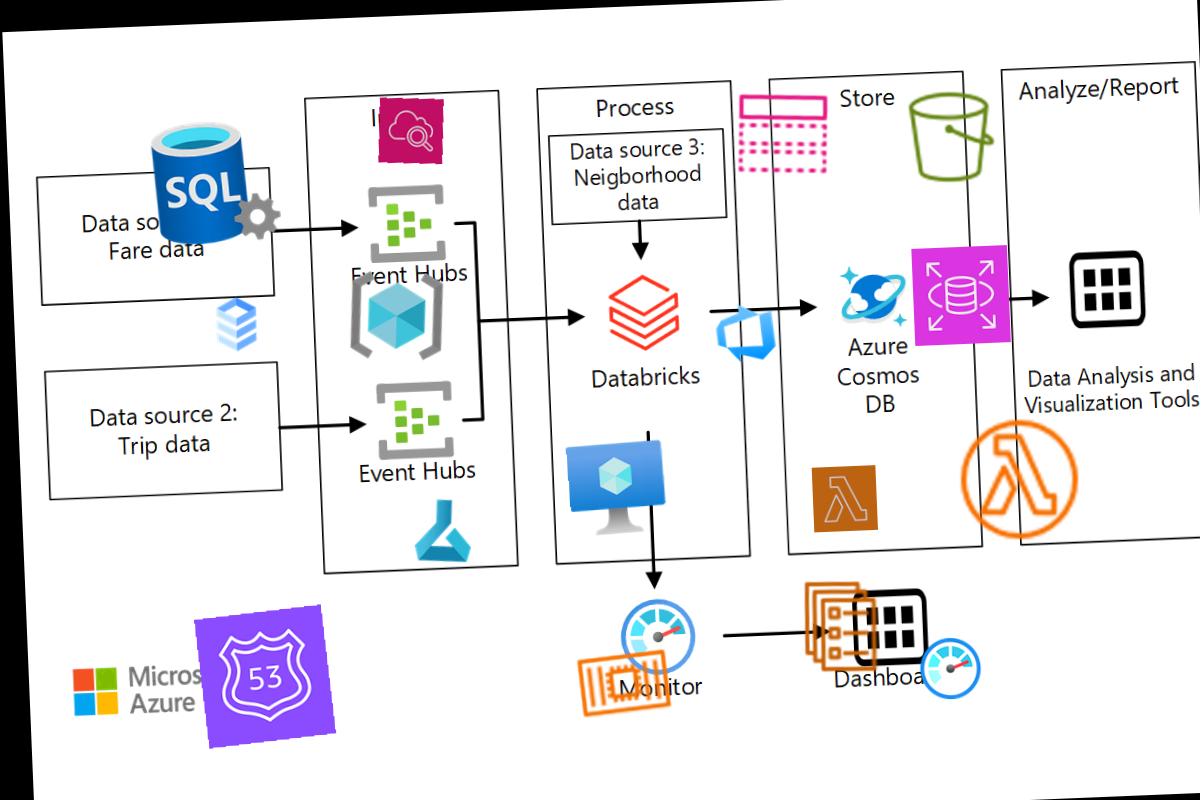aws_amazon_cloudwatch: (375, 95, 446, 166)
aws_amazon_rds: (910, 243, 1011, 347)
aws_amazon_route_53: (193, 603, 336, 749)
aws_elastic_container_service_container_2: (570, 628, 678, 737)
aws_elastic_container_service_service: (789, 573, 892, 679)
aws_lambda: (810, 464, 879, 533)
aws_lambda_lambda_function: (950, 408, 1088, 549)
aws_simple_notification_service_topic: (730, 80, 835, 187)
aws_simple_storage_service_bucket: (899, 84, 1003, 189)
azure_devops: (709, 295, 781, 369)
azure_machine_learning: (407, 493, 479, 567)
azure_monitor: (915, 632, 985, 704)
azure_resource_groups: (342, 261, 450, 370)
azure_sql_server: (144, 109, 287, 254)
azure_virtual_machine: (565, 438, 669, 543)
gcp_cloud_sql: (202, 289, 270, 359)
